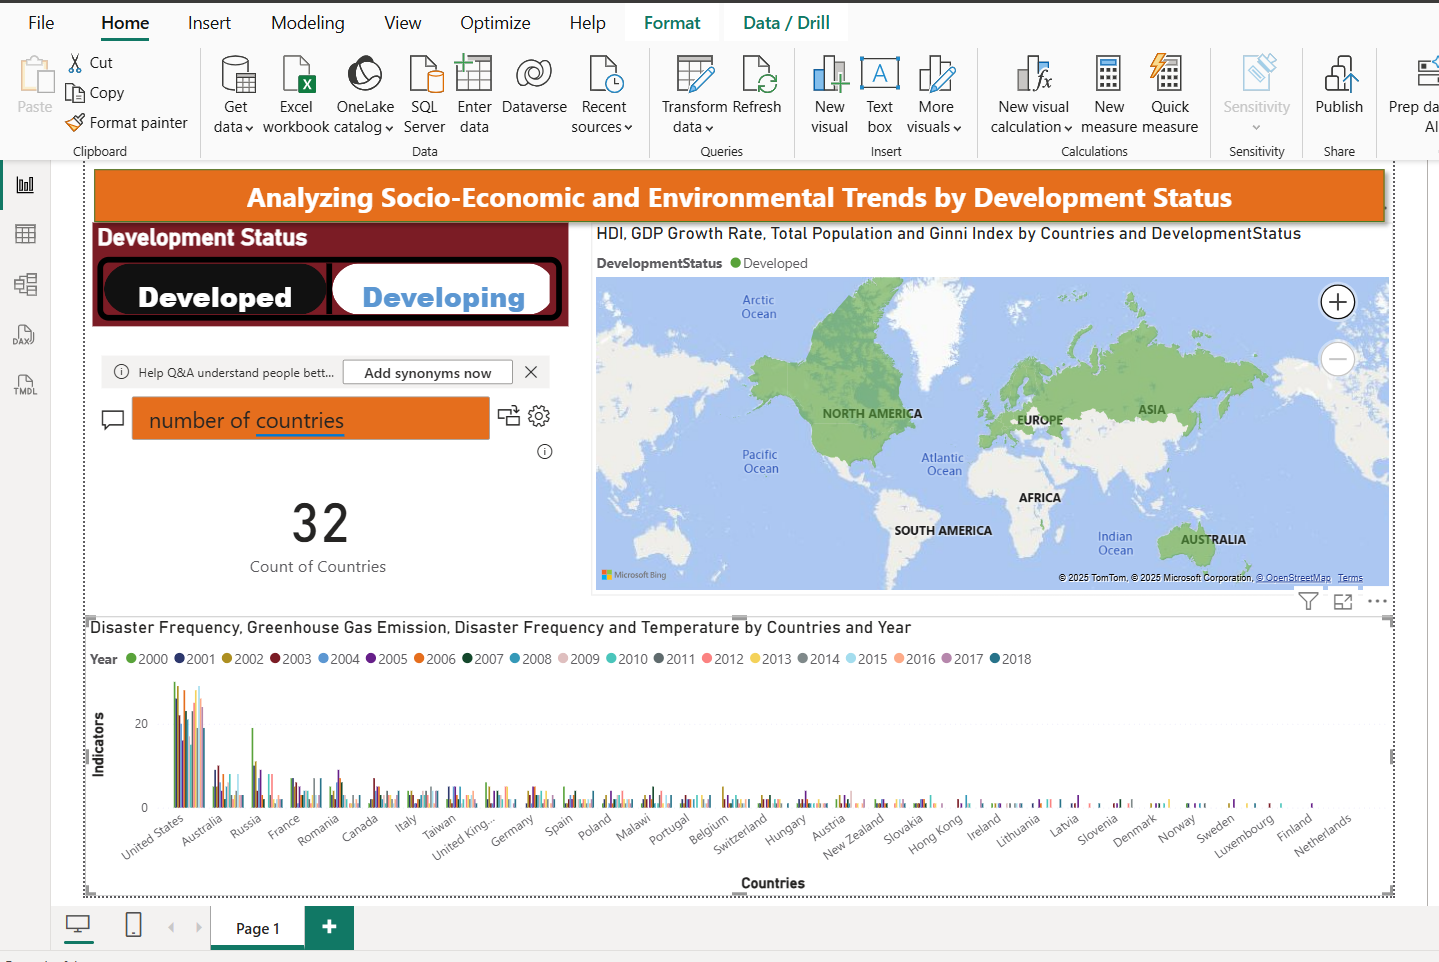

The dashboard page shown, as its layout file describes it:
{"tool":"powerbi","page":{"name":"Page 1","canvas":[1280,720],"ordinal":0},"visuals":[{"type":"clusteredColumnChart","title":"Disaster Frequency, Greenhouse Gas Emission, Disaster Frequency and Temperature by Countries  and Year","fields":{"Category":["Sheet1.Countries "],"Series":["Sheet1.Year"],"Y":["Sum(Sheet1.Disaster Frequency)"]},"box":[0,446.3,1280.3,273.9],"z":0},{"type":"filledMap","fields":{"Category":["Sheet1.Countries "],"Series":["Sheet1.DevelopmentStatus"]},"box":[495.2,61.1,785.1,364.4],"z":1000},{"type":"advancedSlicerVisual","fields":{"Values":["Sheet1.DevelopmentStatus"]},"box":[7.3,61.1,465.9,101.5],"z":2000},{"type":"shape","box":[0,0,1280.3,69.7],"z":3000},{"type":"qnaVisual","box":[7.3,178.5,456.1,259.2],"z":4000}]}

Visuals, with their boxes on the page's 1280x720 design canvas (x1, y1, x2, y2). These are canvas units, not pixel positions in the 1439x962 screenshot, which may show the page scaled, cropped or inside an application window:
"Disaster Frequency, Greenhouse Gas Emission, Disaster Frequency and Temperature by Countries  and Year" clusteredColumnChart: left=0, top=446, right=1280, bottom=720
filledMap - Sheet1.Countries  x Sheet1.DevelopmentStatus: left=495, top=61, right=1280, bottom=426
advancedSlicerVisual - Sheet1.DevelopmentStatus: left=7, top=61, right=473, bottom=163
shape: left=0, top=0, right=1280, bottom=70
qnaVisual: left=7, top=178, right=463, bottom=438
